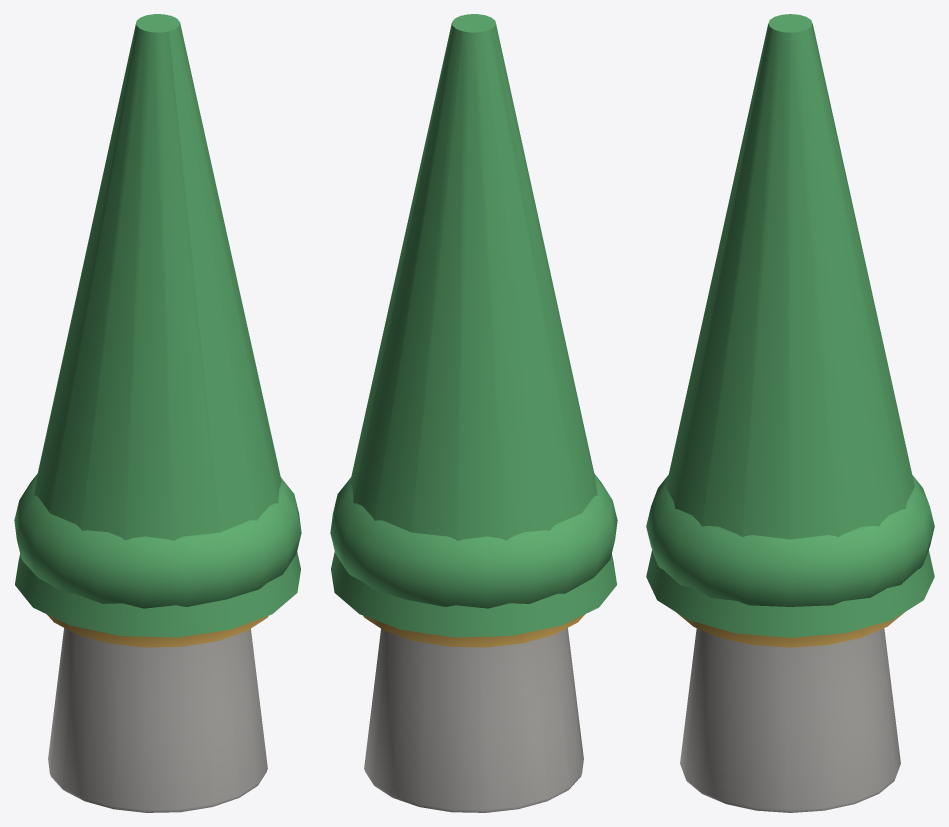
The model's file is plant-pot-cone.glb.
3 renders of one model, left to right at view 1: azimuth 30°, elevation 25°; view 2: azimuth 150°, elevation 25°; view 3: azimuth 270°, elevation 25°, orthographic.
Visible parts, largest first — view 1: plant-pot-cone; view 2: plant-pot-cone; view 3: plant-pot-cone.
Part boxes in pixels (bbox=[...]): plant-pot-cone: bbox=[14, 14, 301, 812]; plant-pot-cone: bbox=[330, 14, 617, 812]; plant-pot-cone: bbox=[646, 14, 934, 812].
Bounding box in the file's own units: 0.572 × 1.63 × 0.572.
